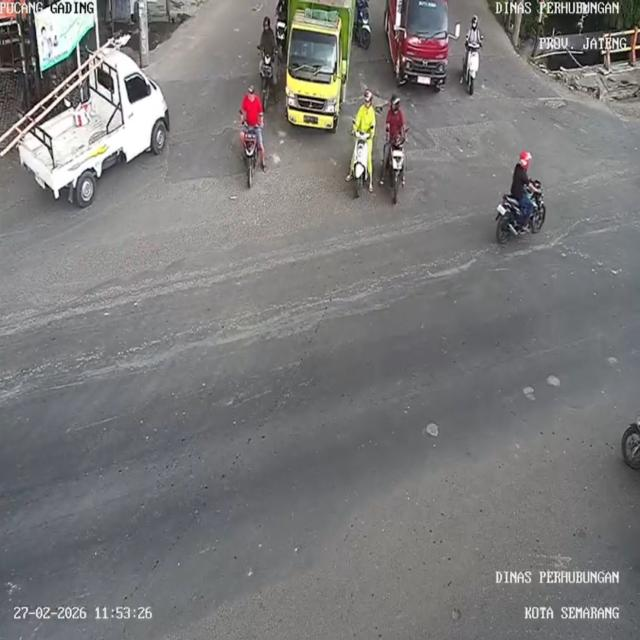motorcycle: (494, 189, 544, 242), (348, 126, 372, 199), (387, 137, 407, 202), (241, 124, 261, 188), (462, 43, 482, 95), (257, 51, 277, 102), (356, 9, 376, 51), (273, 17, 289, 57)
person: (508, 146, 532, 238), (350, 90, 378, 141), (386, 95, 409, 146), (242, 83, 264, 129), (257, 16, 279, 54), (465, 11, 484, 48), (274, 0, 290, 22), (356, 1, 369, 14)
rider_region: (492, 148, 552, 243), (381, 95, 413, 206), (347, 90, 377, 200), (238, 83, 269, 183), (254, 15, 281, 108), (462, 13, 483, 96), (354, 0, 374, 50), (272, 1, 290, 52)
